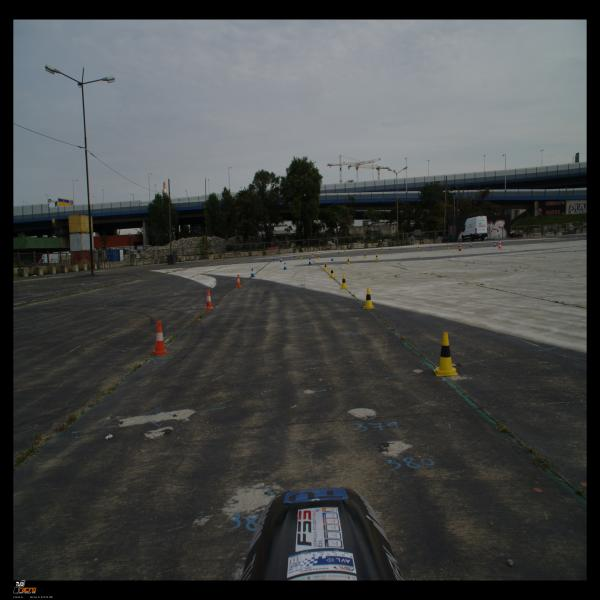blue_cone: (250, 268, 255, 278), (283, 262, 287, 270), (308, 258, 312, 265), (331, 255, 334, 261), (280, 257, 282, 262), (494, 242, 496, 247), (273, 256, 275, 260), (294, 254, 296, 258), (338, 250, 340, 254), (390, 246, 392, 250), (470, 243, 472, 247), (430, 245, 432, 248)
large_orange_cone: (498, 240, 502, 248), (459, 242, 462, 250)
orange_cone: (149, 320, 170, 356), (204, 289, 214, 310), (235, 274, 242, 288)
yellow_cone: (434, 332, 458, 377), (362, 288, 376, 309), (340, 274, 348, 289), (329, 267, 335, 278), (323, 262, 328, 271), (375, 253, 378, 260), (347, 258, 350, 264), (343, 250, 346, 254), (364, 253, 366, 258), (300, 254, 302, 259), (318, 254, 320, 259), (418, 245, 420, 250), (447, 244, 449, 249), (312, 252, 314, 256), (381, 248, 383, 252), (458, 244, 459, 250)
